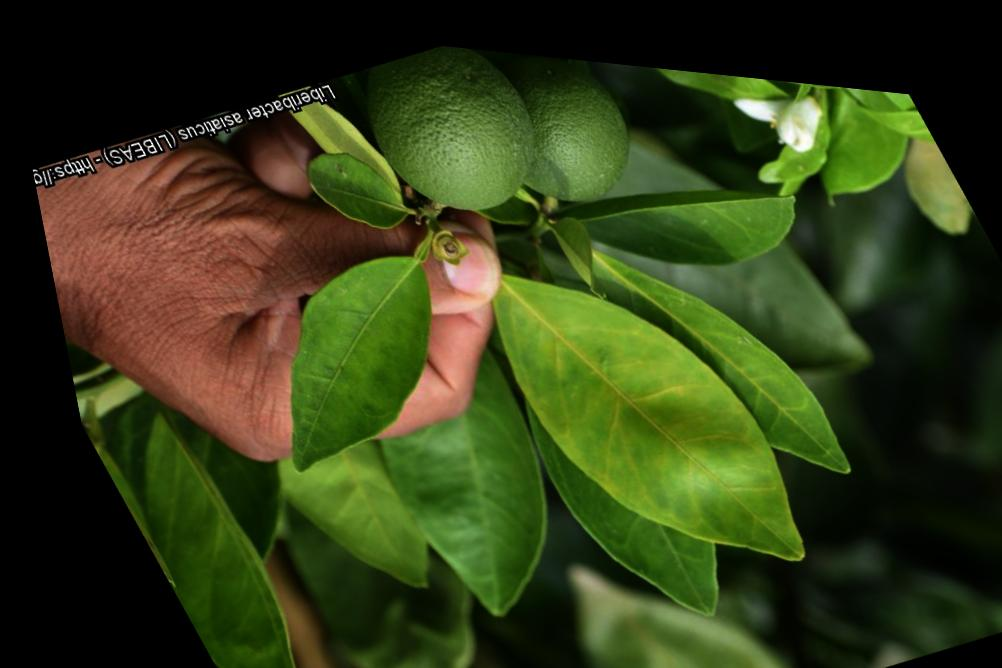Citrus Greening: (430, 185, 831, 623), (547, 180, 855, 521), (173, 216, 503, 492), (59, 390, 316, 668)
